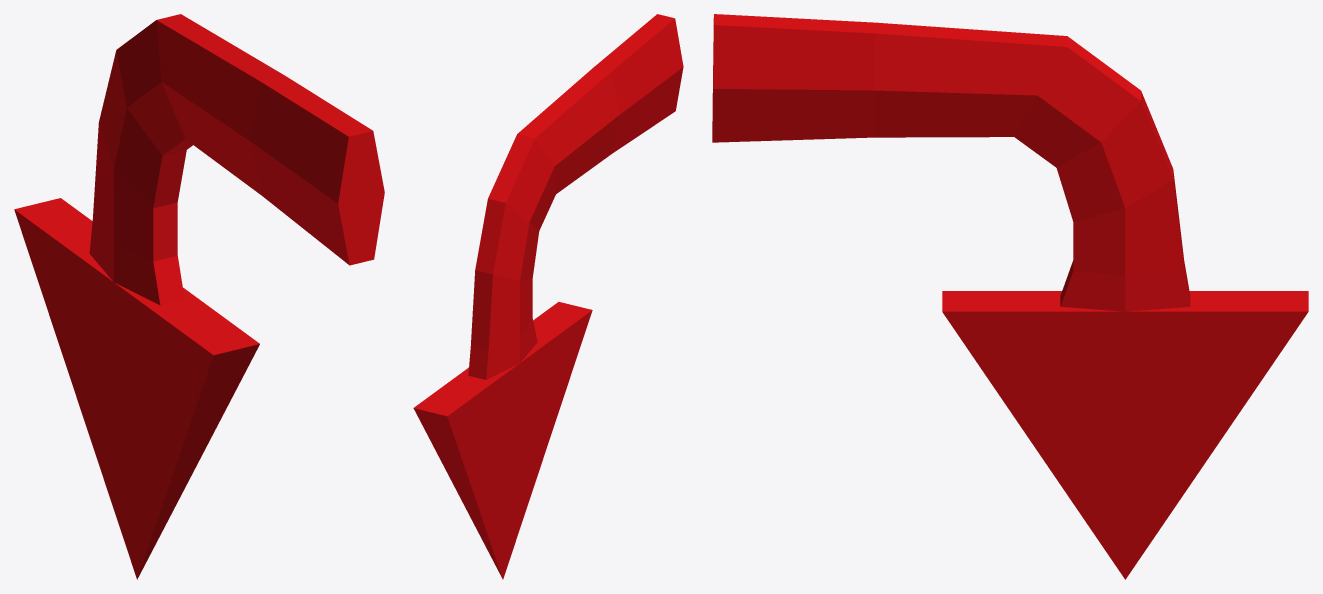
Rendered from arrow.fbx.
The picture shows the model from 3 angles, left to right: view 1: azimuth 30°, elevation 25°; view 2: azimuth 150°, elevation 25°; view 3: azimuth 270°, elevation 25°; orthographic projection. The views are drawn at different scales.
Visible parts, largest first — view 1: Cube; view 2: Cube; view 3: Cube.
Part boxes in pixels (x1,y1,x2,y2): Cube: (14, 14, 384, 579); Cube: (413, 14, 683, 579); Cube: (712, 14, 1308, 579).
Size of the model in its own units: 16.14 by 201 by 194.
